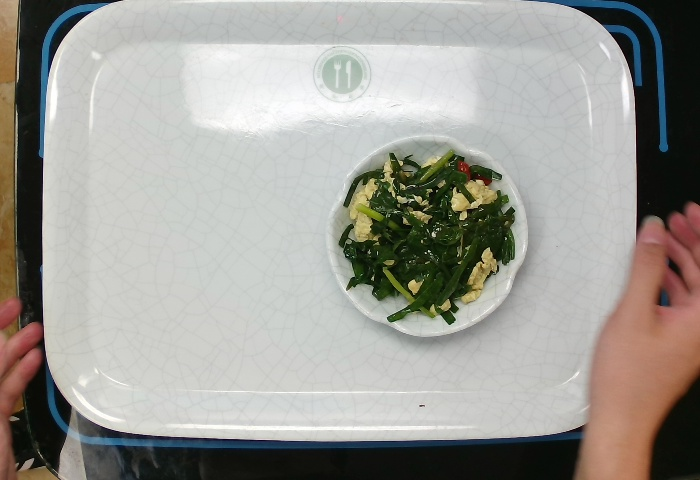JYsf-Ao_Yuan_Wan: (330, 137, 541, 344)
